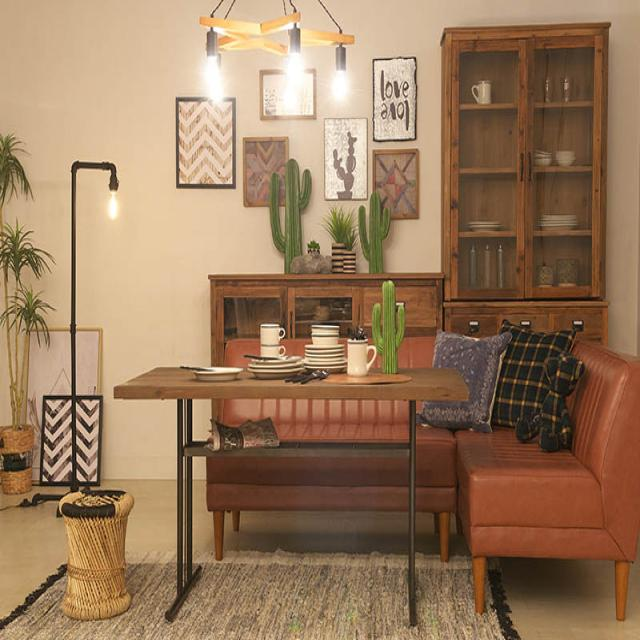vintage desk: (108, 362, 461, 628)
vintage sofa: (205, 334, 634, 622)
